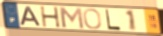1: (124, 9, 137, 32)
A: (20, 6, 43, 27)
H: (39, 6, 62, 29)
L: (105, 9, 122, 32)
M: (57, 6, 86, 30)
O: (82, 8, 103, 30)
